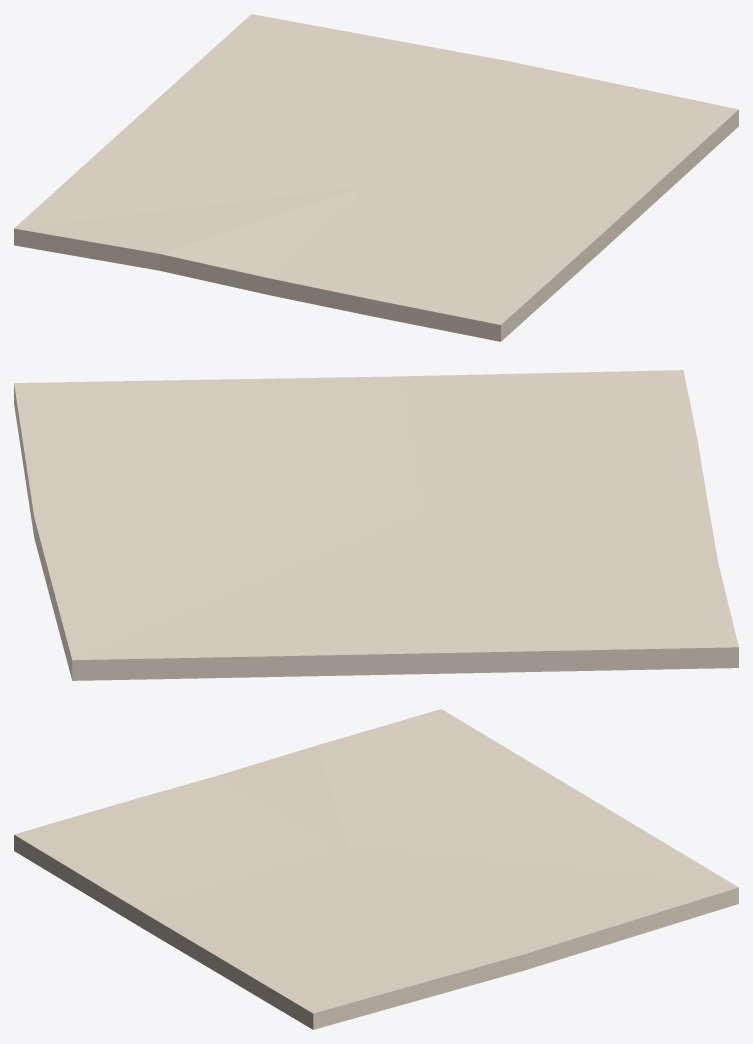
3 views of the same model, one above another, from view 1: azimuth 30°, elevation 25°; view 2: azimuth 150°, elevation 25°; view 3: azimuth 270°, elevation 25° (orthographic). The views are drawn at different scales.
Bounding box in the file's own units: 40.77 × 1.4 × 40.14.
